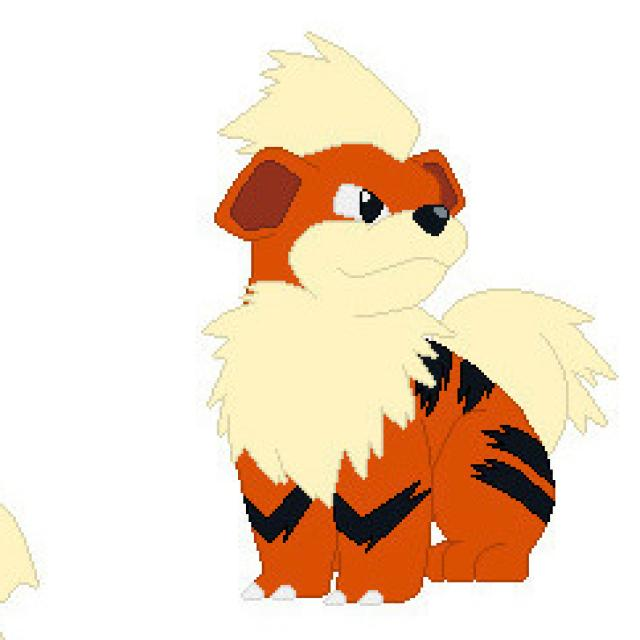Growlithe: (218, 45, 568, 603)
